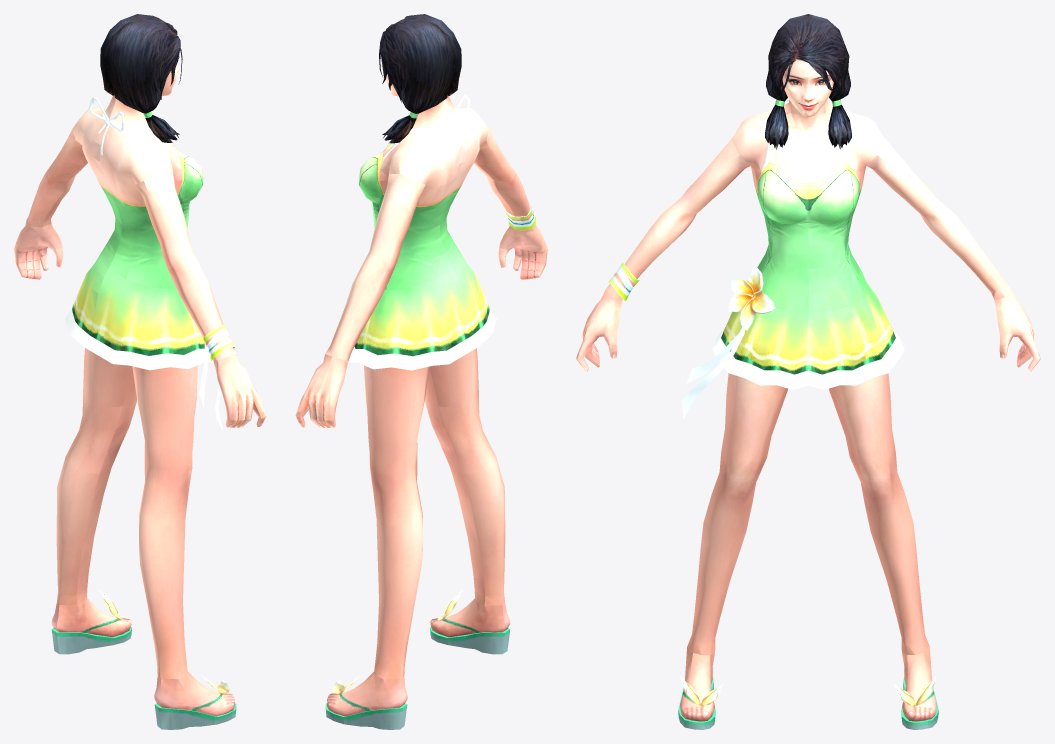
File: summer_girl.glb
3 renders of one model, left to right at view 1: azimuth 30°, elevation 25°; view 2: azimuth 150°, elevation 25°; view 3: azimuth 270°, elevation 25°, orthographic. The views are drawn at different scales.
Visible parts, largest first — view 1: Object_2; view 2: Object_2; view 3: Object_2.
Boxes of the visible parts, <box> form: Object_2: <box>14,14,266,729</box>; Object_2: <box>295,14,547,729</box>; Object_2: <box>576,14,1040,729</box>.
Size of the model in its own units: 30.44 by 175 by 107.
1 material, 1 textured.
